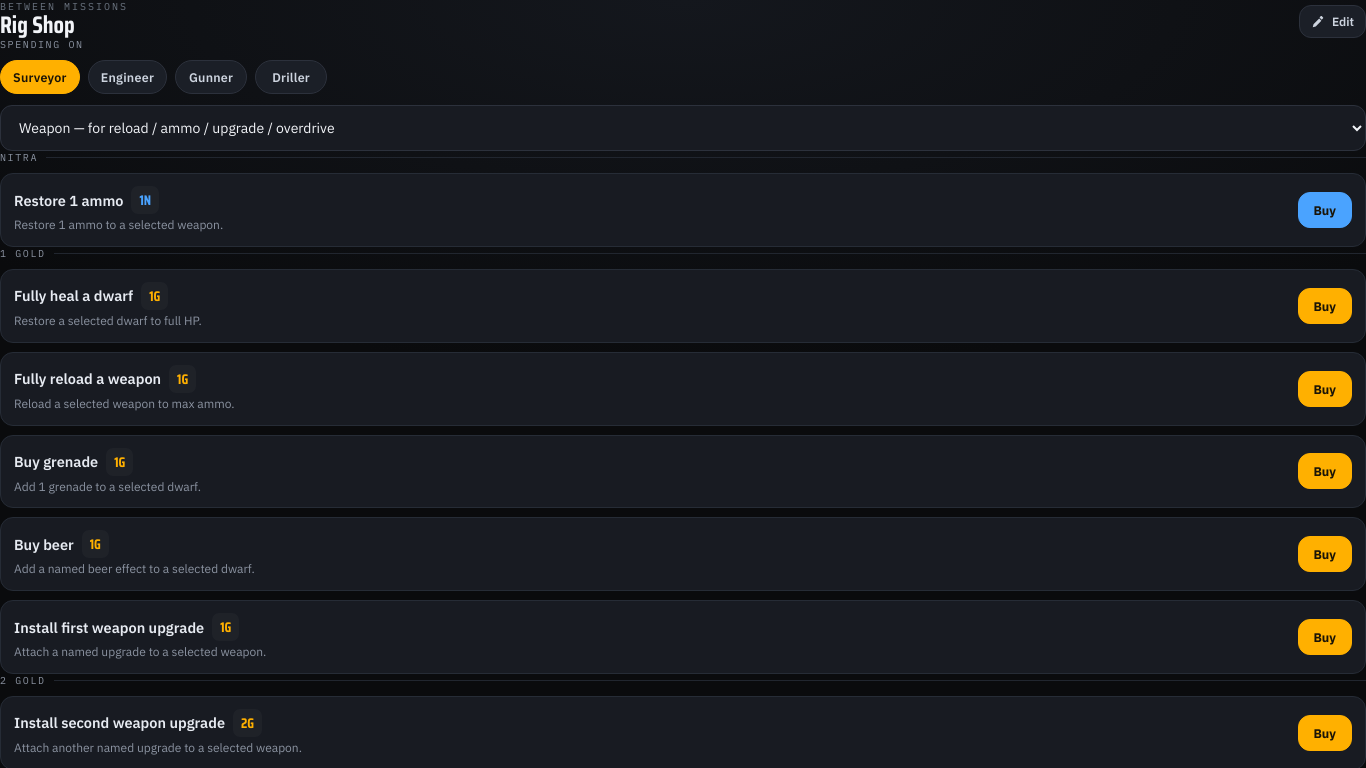
Test: RigShopScreen › records the purchase in the recent spending log
The width and height of the screenshot is (1366, 768).
Click the button "Buy" in the row of "Add 1 grenade to a selected dwarf.".
click(1325, 472)  # box [1298,454,1352,490]
(page scrolled)
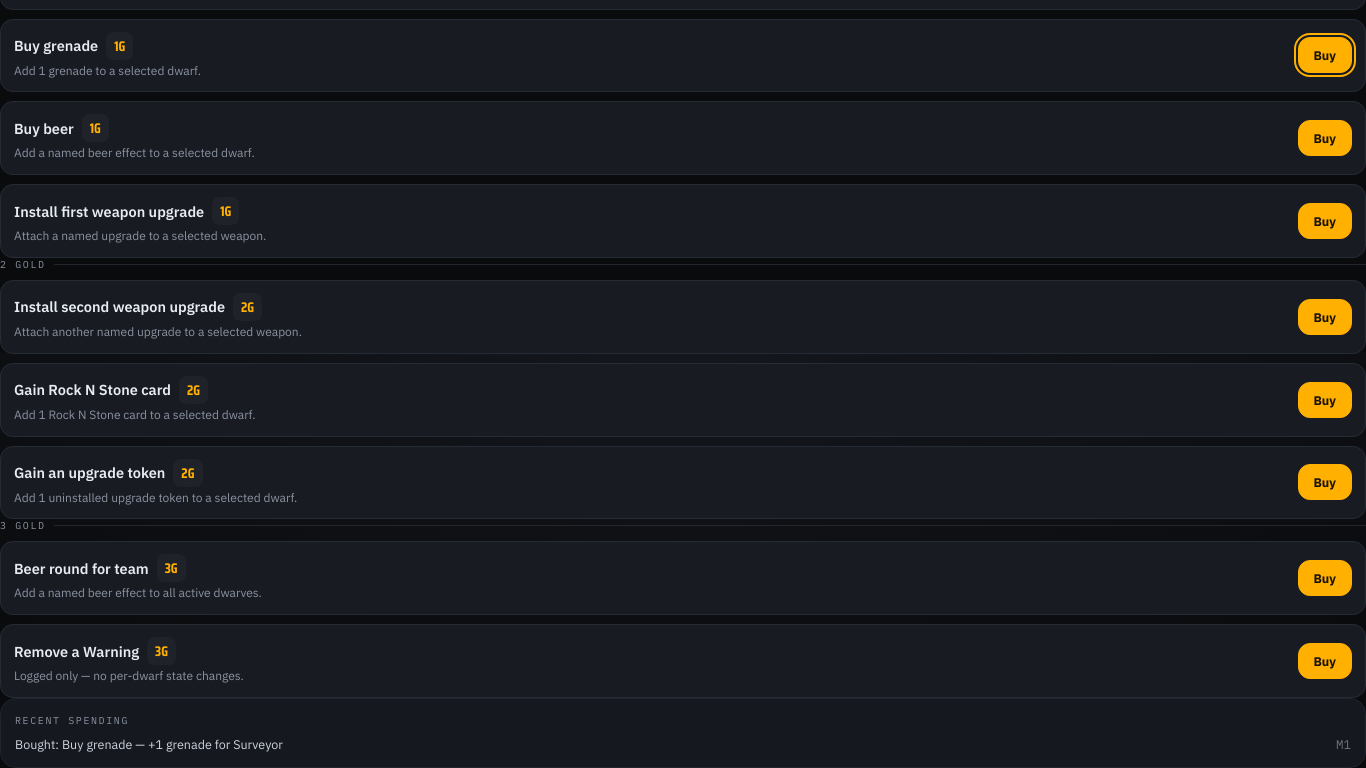
Expected: the text "Recent Spending" is shown, [15,714,129,727]
